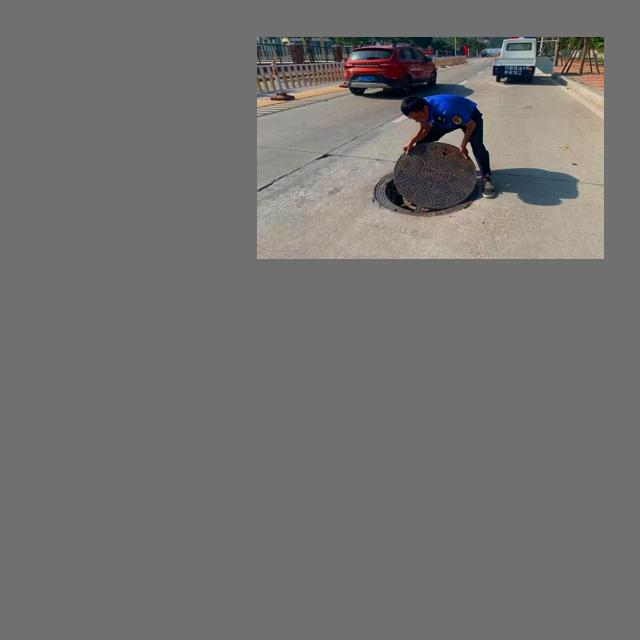uncovered: (370, 139, 481, 218)
